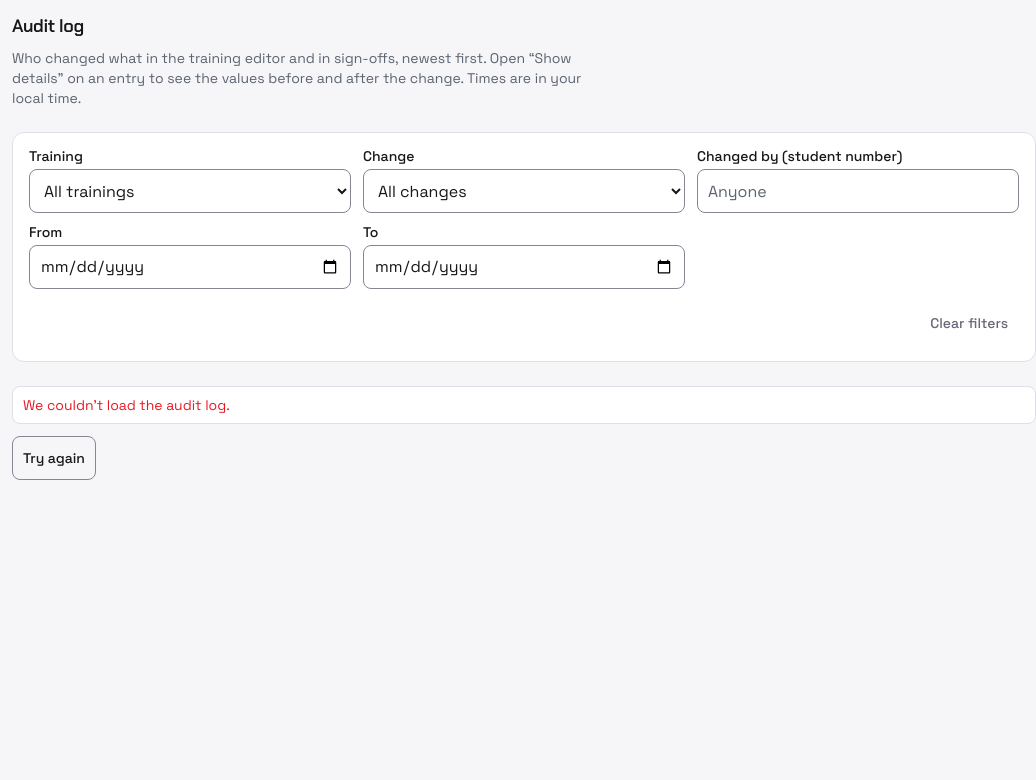
Test: TrainingAuditLog › offers a retry when the log will not load
The image size is (1036, 780).
Expected: the text "We couldn't load the audit log." is shown, 23,396 -> 230,414
Click the button "Try again": (54, 458) 12,436 -> 96,480
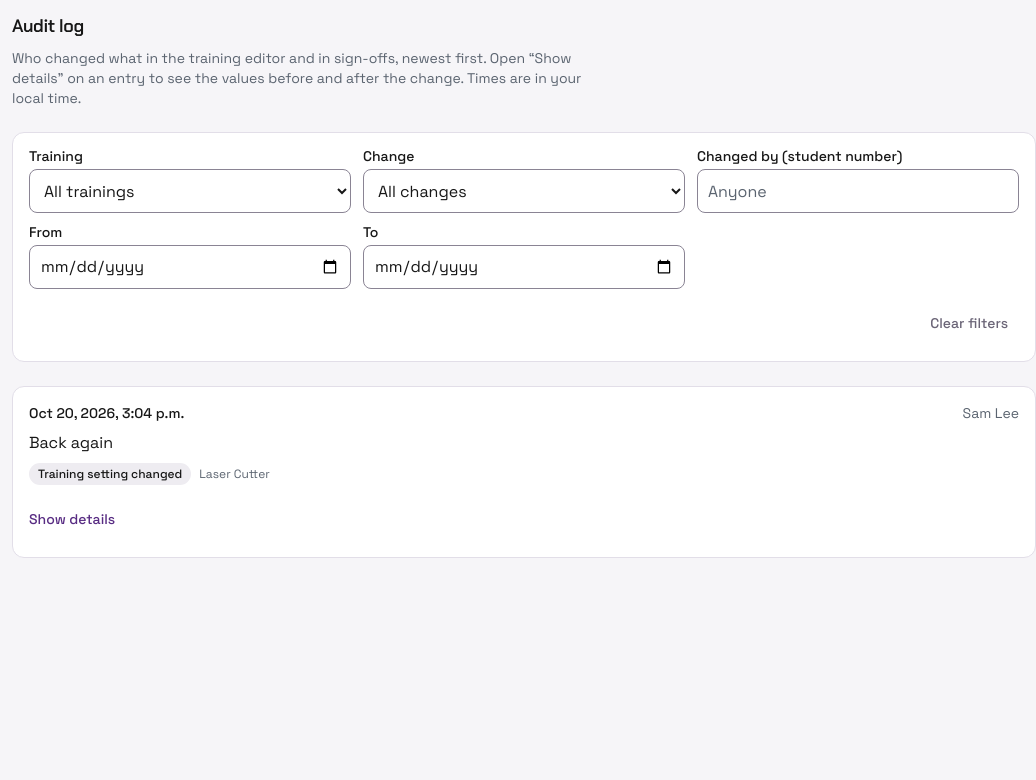
Expected: the text "Back again" is shown, 29,432 -> 113,453
